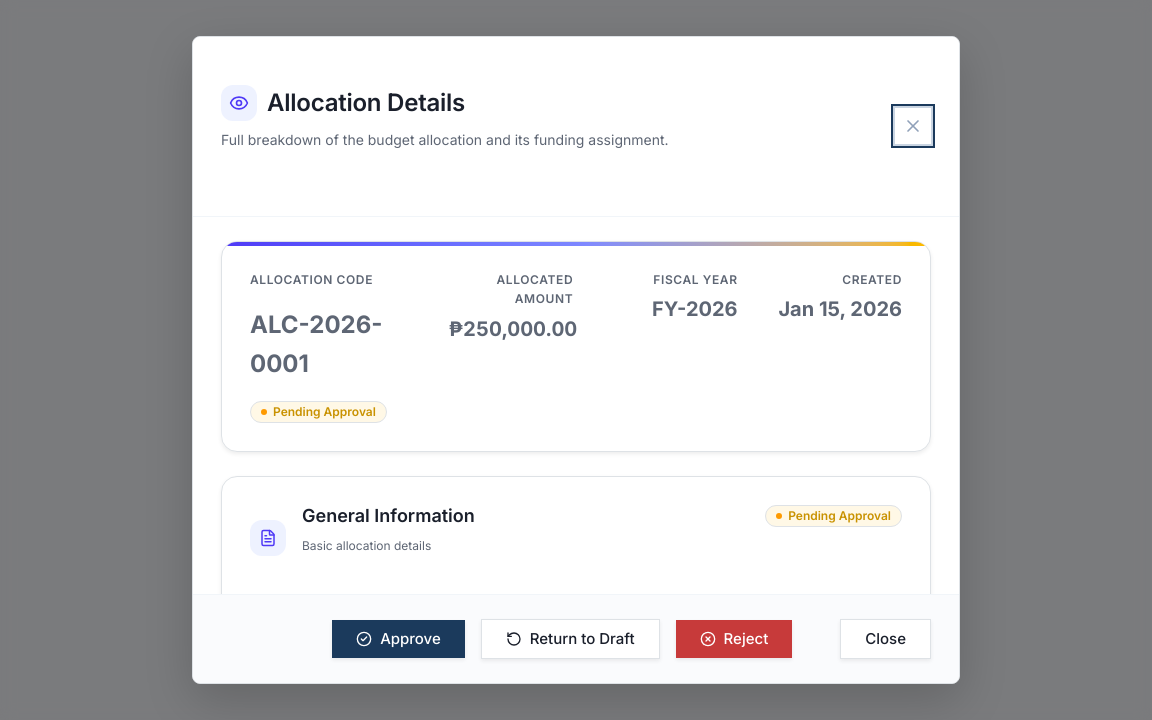
Test: AllocationDetailsDialog approval workflow › requires a rejection reason before rejecting
Click the button "Reject" at (734, 639), box [676,620,792,658]
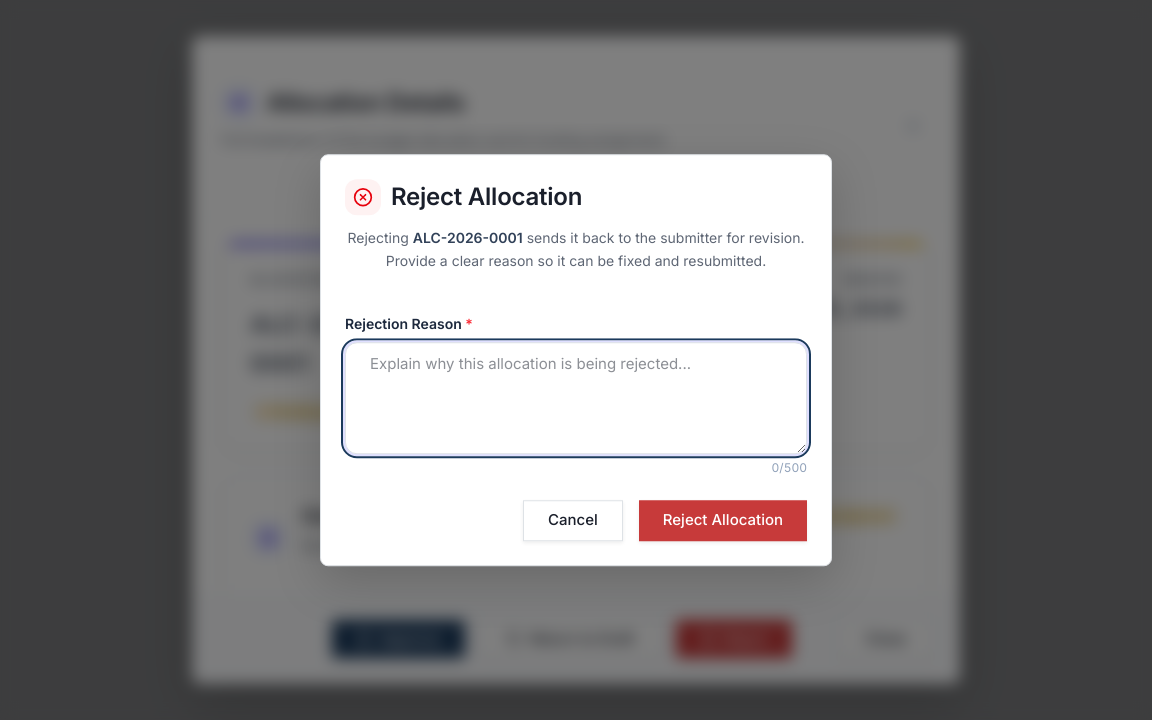
Click the button "Reject Allocation" at (723, 521), box [639,500,807,541]
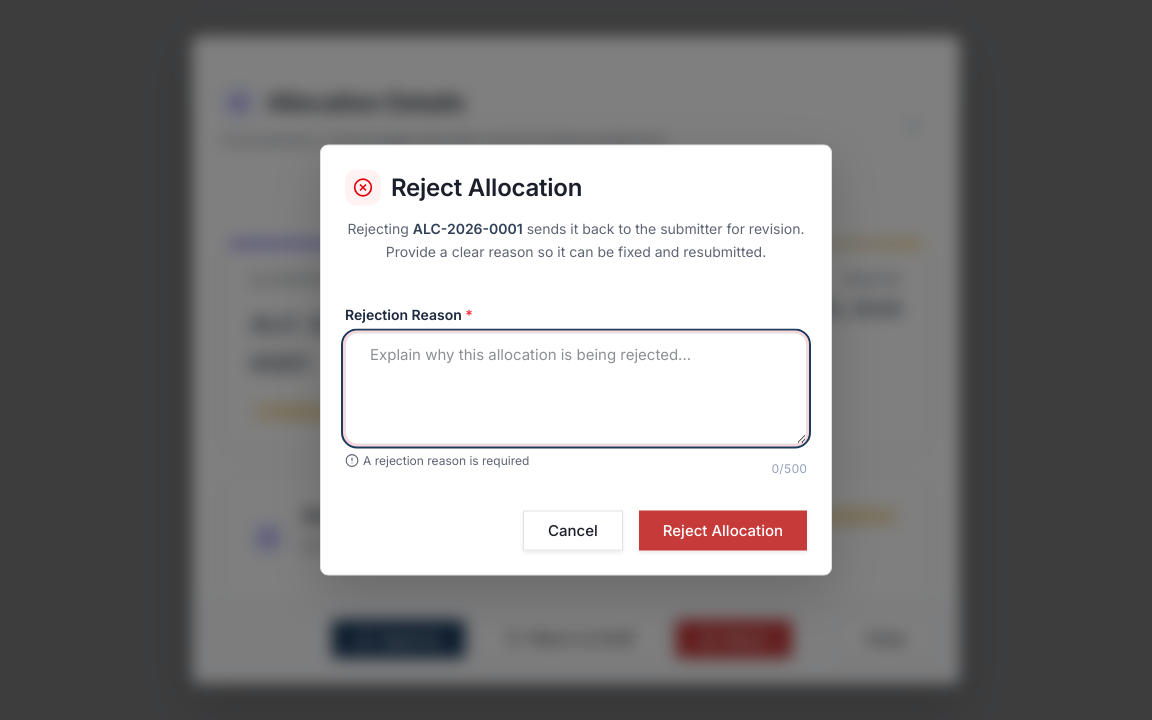
Result: the text "A rejection reason is required" is shown at [345,450,529,470]
